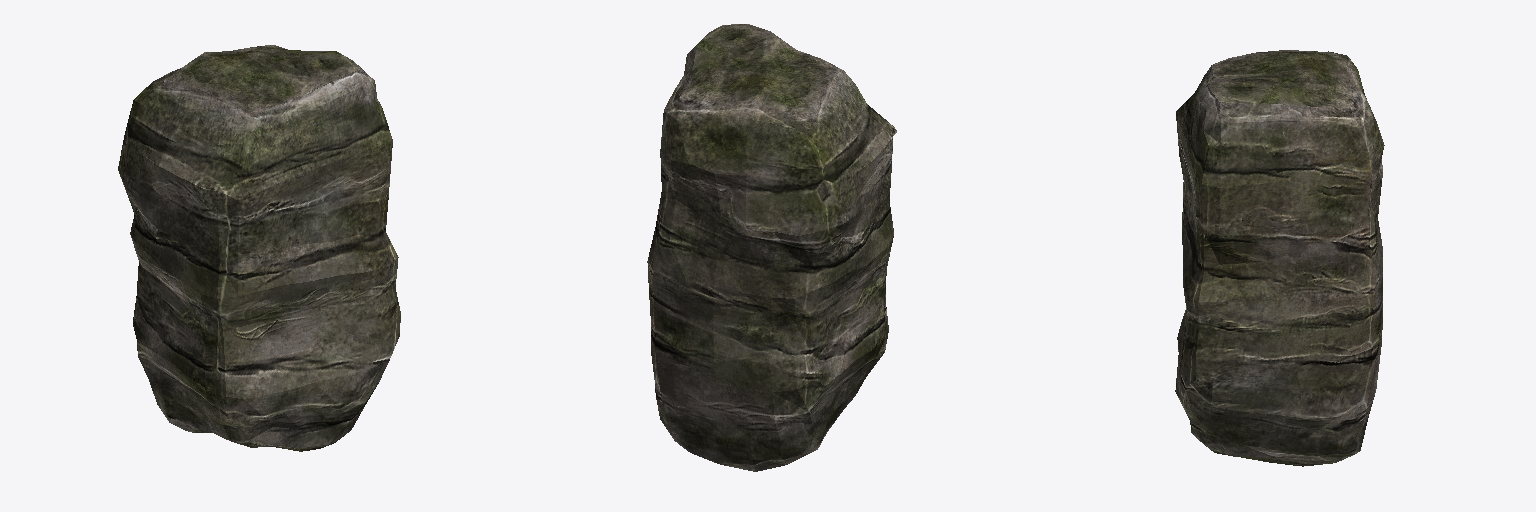
3 renders of one model, left to right at view 1: azimuth 30°, elevation 25°; view 2: azimuth 150°, elevation 25°; view 3: azimuth 270°, elevation 25°, orthographic.
Parts seen in each view (by area): view 1: low; view 2: low; view 3: low.
Part boxes in pixels (bbox=[...]): low: bbox=[118, 45, 400, 451]; low: bbox=[647, 24, 896, 471]; low: bbox=[1175, 50, 1384, 466].
Size of the model in its own units: 25.68 by 46 by 22.43.
1 materials, 1 textured.